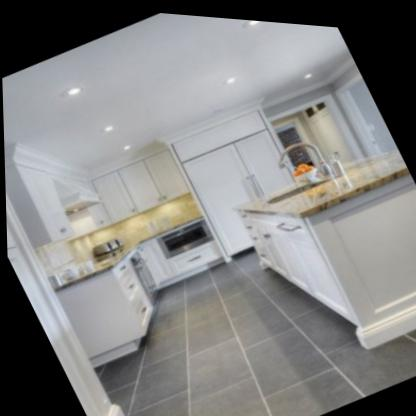Cabinet: (85, 202, 252, 360), (88, 138, 190, 228)
Ceramic floor: (126, 253, 416, 416)
